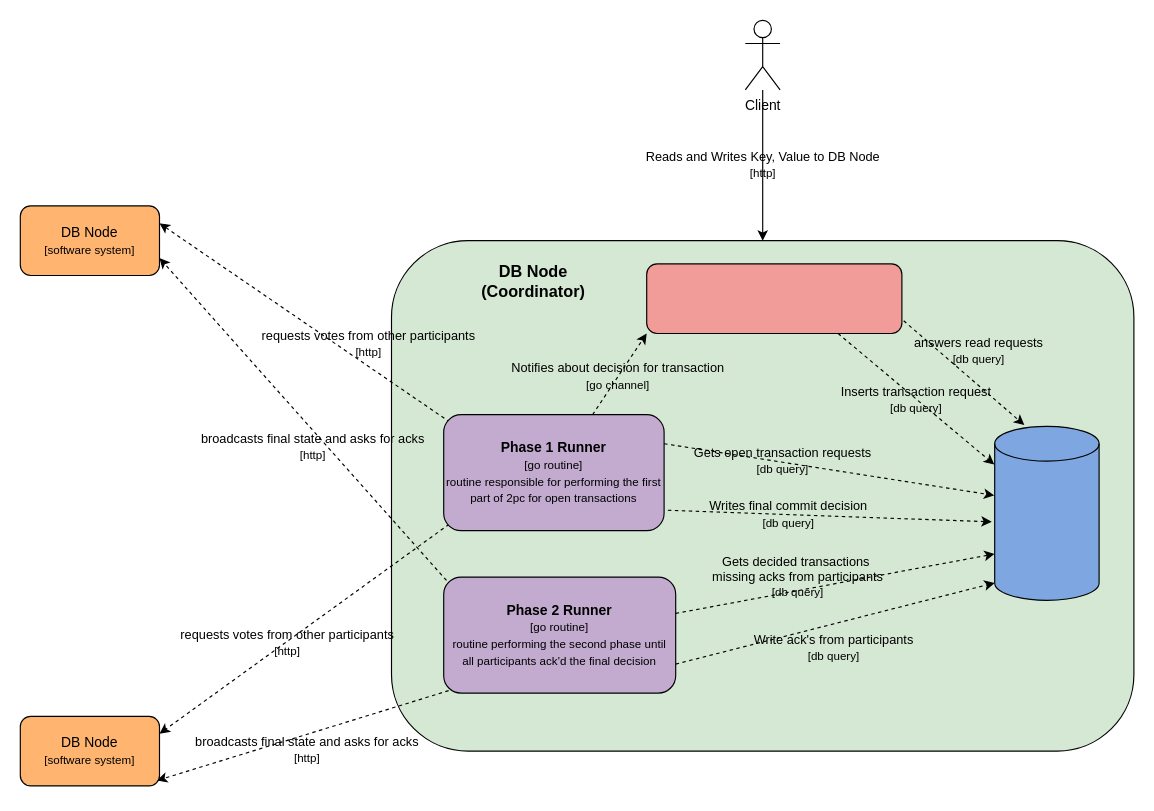
The diagram is 1154 pixels wide and 811 high, and some of its shapes have lost their labels. The shapes that lost their labels are listed below. From the top down, each one's centre as x and y in pixels, then its label:
point 774,298: Request Handler [go routine]
point 1046,512: ACID Storage storage for key value and meta data
